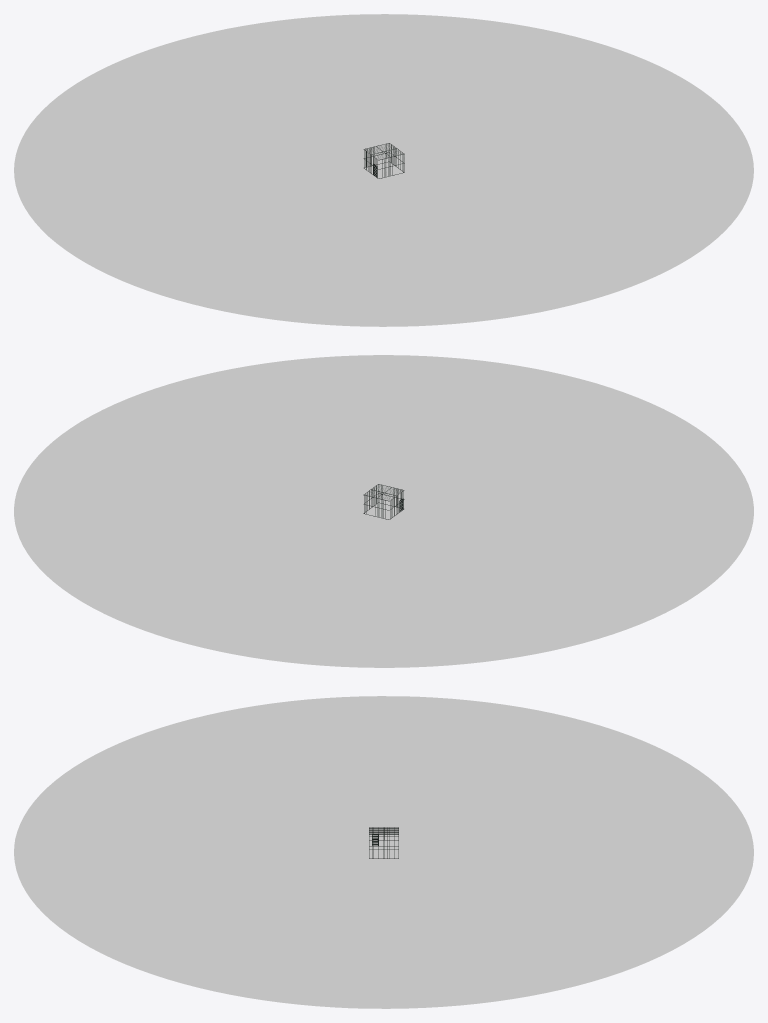
File: jail_cage.glb
3 renders of one model, top to bottom at view 1: azimuth 30°, elevation 25°; view 2: azimuth 150°, elevation 25°; view 3: azimuth 270°, elevation 25°, orthographic.
Parts seen in each view (by area): view 1: Circle_7, Cylinder.011_8; view 2: Circle_7, Cylinder.011_8; view 3: Circle_7, Cylinder.011_8.
Boxes of the visible parts, x1,y1,x2,y2 form: Circle_7: (14, 14, 753, 326); Cylinder.011_8: (363, 143, 404, 178); Circle_7: (14, 355, 753, 667); Cylinder.011_8: (363, 484, 404, 519); Circle_7: (14, 696, 753, 1008); Cylinder.011_8: (369, 827, 398, 858).
Bounding box in the file's own units: 96.37 × 2.73 × 96.37.
Materials: 2 (1 with a texture image).
